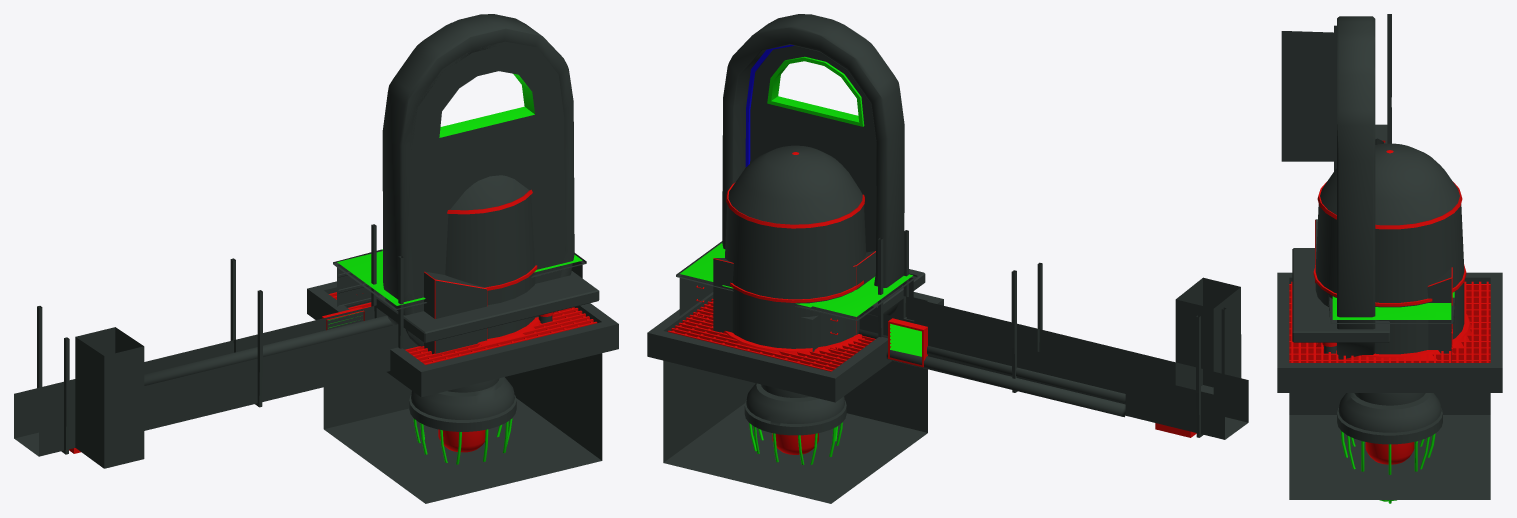
Rendered from Objects_All.fbx.
The picture shows the model from 3 angles, left to right: view 1: azimuth 30°, elevation 25°; view 2: azimuth 150°, elevation 25°; view 3: azimuth 270°, elevation 25°; orthographic projection. The views are drawn at different scales.
Parts seen in each view (by area): view 1: SM_Drain, SM_Vent_Ducting, SM_Door, SM_DoorFrame, SM_Tank_cylindrical, SM_Light_Roof, SM_Shelf, SM_Console_Corner, SM_Pipes_bunker_mod, SM_Desk; view 2: SM_Drain, SM_Vent_Ducting, SM_Tank_cylindrical, SM_DoorFrame, SM_Door, SM_Light_Roof, SM_Pipes_bunker_mod, SM_Desk, SM_Console_Corner; view 3: SM_Drain, SM_Tank_cylindrical, SM_DoorFrame, SM_Vent_Ducting, SM_Light_Roof, SM_Shelf, SM_Desk, SM_Console_Corner.
Boxes of the visible parts, x1=… form: SM_Drain: x1=307, y1=281, x2=618, y2=503; SM_Vent_Ducting: x1=14, y1=224, x2=418, y2=468; SM_Door: x1=410, y1=41, x2=564, y2=317; SM_DoorFrame: x1=382, y1=14, x2=574, y2=346; SM_Tank_cylindrical: x1=445, y1=175, x2=539, y2=346; SM_Light_Roof: x1=409, y1=377, x2=516, y2=464; SM_Shelf: x1=376, y1=271, x2=599, y2=343; SM_Console_Corner: x1=424, y1=271, x2=487, y2=354; SM_Pipes_bunker_mod: x1=144, y1=315, x2=392, y2=385; SM_Desk: x1=333, y1=249, x2=586, y2=310; SM_Drain: x1=647, y1=292, x2=943, y2=503; SM_Vent_Ducting: x1=859, y1=230, x2=1248, y2=439; SM_Tank_cylindrical: x1=723, y1=145, x2=866, y2=354; SM_DoorFrame: x1=722, y1=14, x2=904, y2=315; SM_Door: x1=745, y1=44, x2=876, y2=252; SM_Light_Roof: x1=744, y1=383, x2=846, y2=464; SM_Pipes_bunker_mod: x1=858, y1=329, x2=1125, y2=417; SM_Desk: x1=676, y1=241, x2=917, y2=351; SM_Console_Corner: x1=713, y1=251, x2=875, y2=335; SM_Drain: x1=1277, y1=272, x2=1502, y2=499; SM_Tank_cylindrical: x1=1313, y1=143, x2=1471, y2=359; SM_DoorFrame: x1=1337, y1=16, x2=1375, y2=359; SM_Vent_Ducting: x1=1281, y1=14, x2=1391, y2=171; SM_Light_Roof: x1=1337, y1=393, x2=1442, y2=503; SM_Shelf: x1=1292, y1=248, x2=1389, y2=353; SM_Desk: x1=1328, y1=292, x2=1455, y2=362; SM_Console_Corner: x1=1315, y1=219, x2=1452, y2=353.
Bounding box in the file's own units: 300 × 833 × 696.
